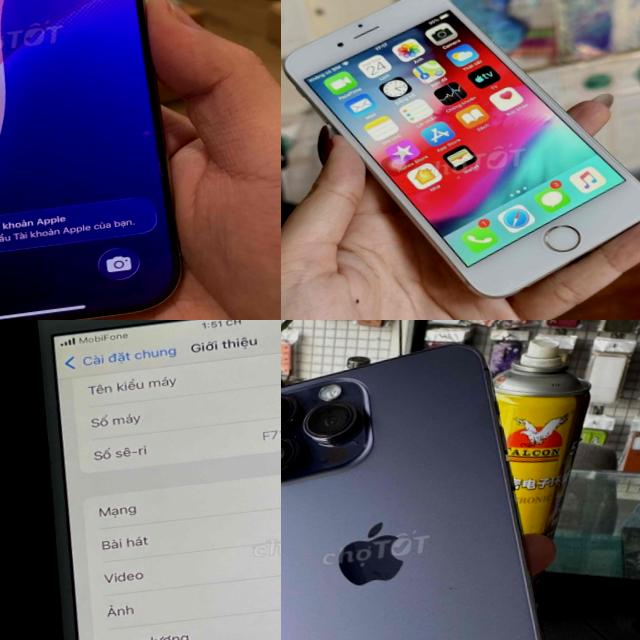gen_14: (281, 330, 582, 640)
gen_16: (0, 0, 180, 320)
gen_6: (281, 0, 640, 314)
gen_7_8: (8, 320, 281, 640)
